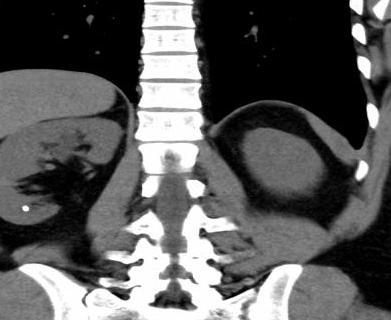Tas_Var: (18, 203, 32, 214)
